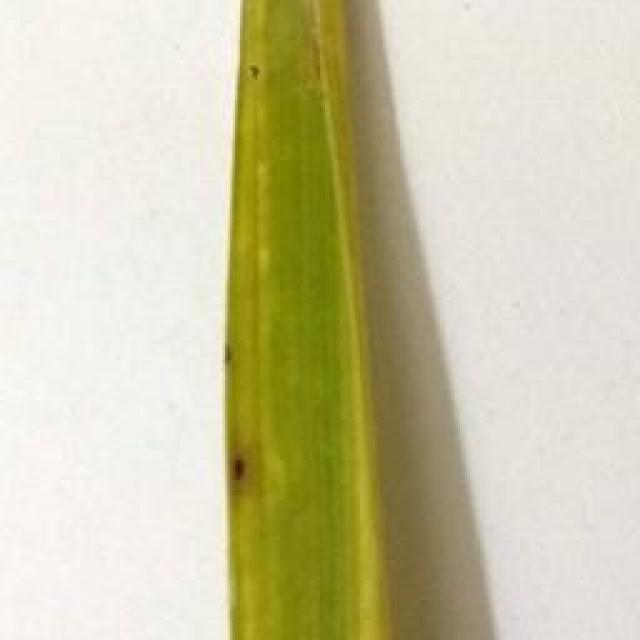Brown_Spot: (244, 48, 273, 92), (228, 445, 254, 493), (219, 345, 246, 364)
